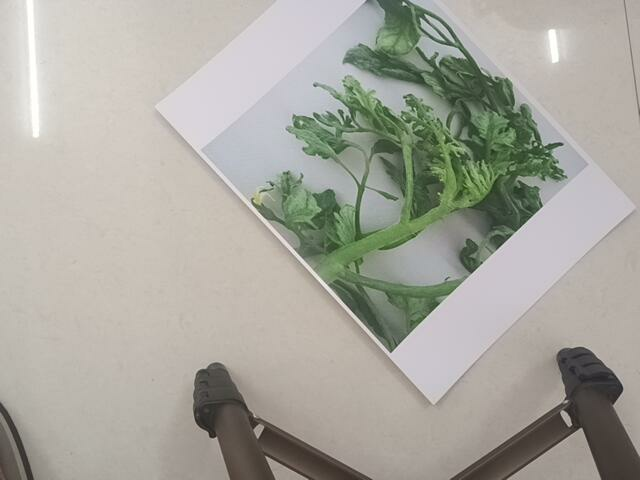Tomamto_Mosaic_virus: (265, 11, 504, 320)
